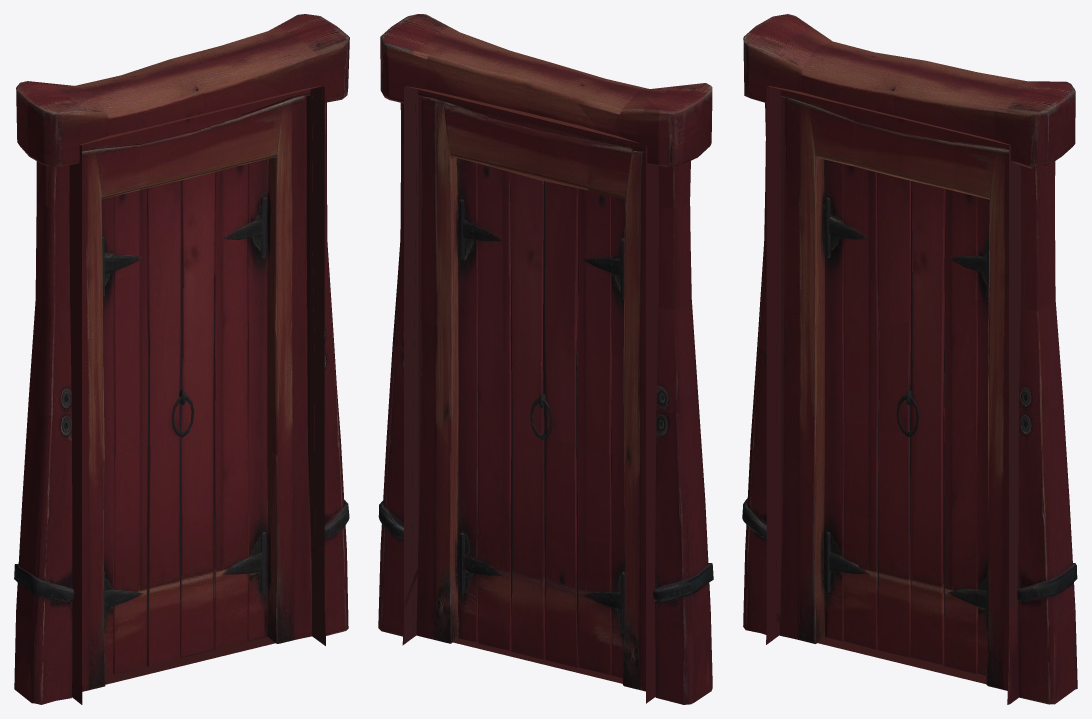
File: door-wood.glb
The picture shows the model from 3 angles, left to right: view 1: azimuth 30°, elevation 25°; view 2: azimuth 150°, elevation 25°; view 3: azimuth 330°, elevation 25°; orthographic projection.
Visible parts, largest first — view 1: Leaf, Frame; view 2: Leaf, Frame; view 3: Leaf, Frame.
Boxes of the visible parts, x1,y1,x2,y2 form: Leaf: (81,89,311,691); Frame: (14,14,349,704); Leaf: (416,89,646,691); Frame: (378,14,713,704); Leaf: (779,89,1009,690); Frame: (742,14,1077,704).
Size of the model in its own units: 1.3 by 2.35 by 0.3292.
Materials: 1 (1 with a texture image).
